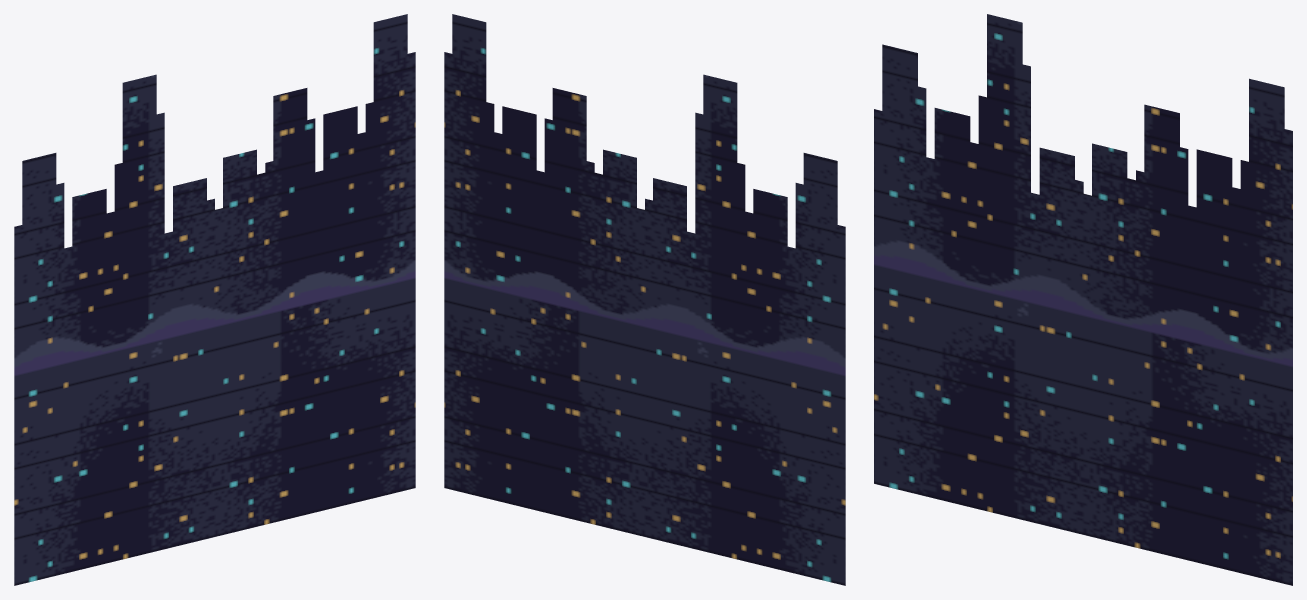
Rendered from cysky.stepped__tile.glb.
3 views of the same model, side by side, from view 1: azimuth 30°, elevation 25°; view 2: azimuth 150°, elevation 25°; view 3: azimuth 330°, elevation 25° (orthographic). The views are drawn at different scales.
Visible parts, largest first — view 1: kit_card_skyline; view 2: kit_card_skyline; view 3: kit_card_skyline.
Part boxes in pixels (left/top/right/bottom): kit_card_skyline: left=14, top=14, right=415, bottom=585; kit_card_skyline: left=444, top=14, right=845, bottom=585; kit_card_skyline: left=874, top=14, right=1292, bottom=585.
Size of the model in its own units: 24 by 27.23 by 0.
Materials: 1 (1 with a texture image).
